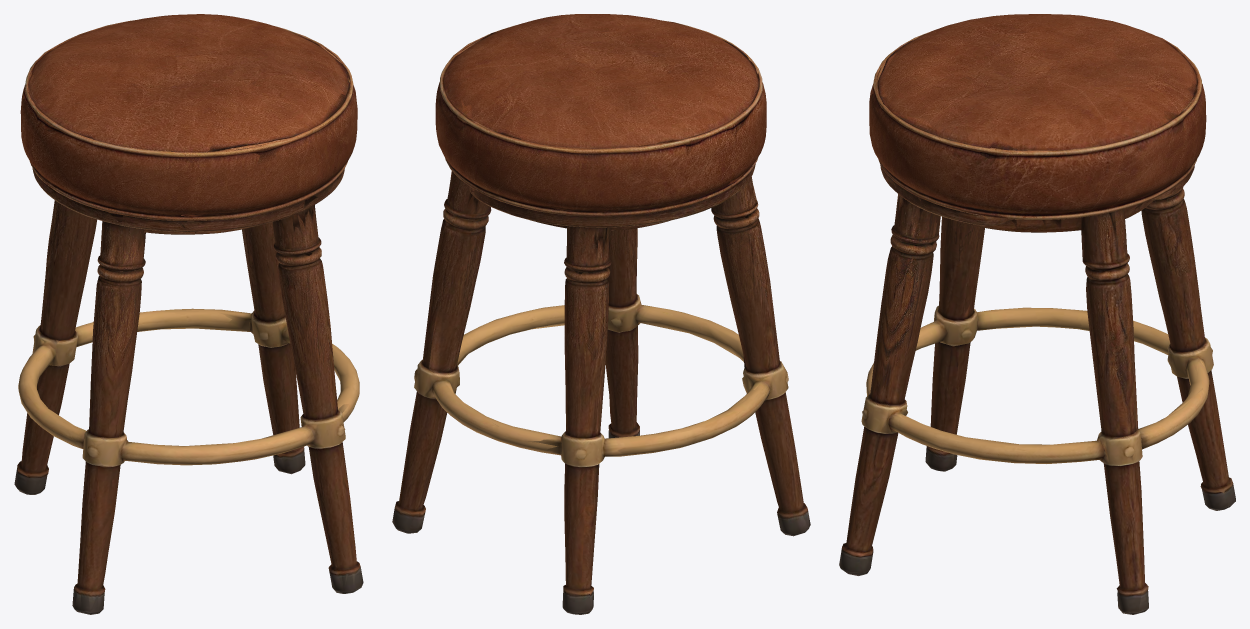
The model's file is diner-stool.glb.
3 views of the same model, side by side, from view 1: azimuth 30°, elevation 25°; view 2: azimuth 150°, elevation 25°; view 3: azimuth 270°, elevation 25° (orthographic).
Parts seen in each view (by area): view 1: Detailed view, Room view; view 2: Detailed view, Room view; view 3: Detailed view, Room view.
Boxes of the visible parts, x1,y1,x2,y2 form: Detailed view: [14, 14, 363, 614]; Room view: [17, 17, 356, 611]; Detailed view: [394, 14, 808, 614]; Room view: [392, 14, 810, 614]; Detailed view: [839, 14, 1235, 614]; Room view: [839, 14, 1235, 612].
Size of the model in its own units: 0.6986 by 0.981 by 0.7381.
1 material, 1 textured.
